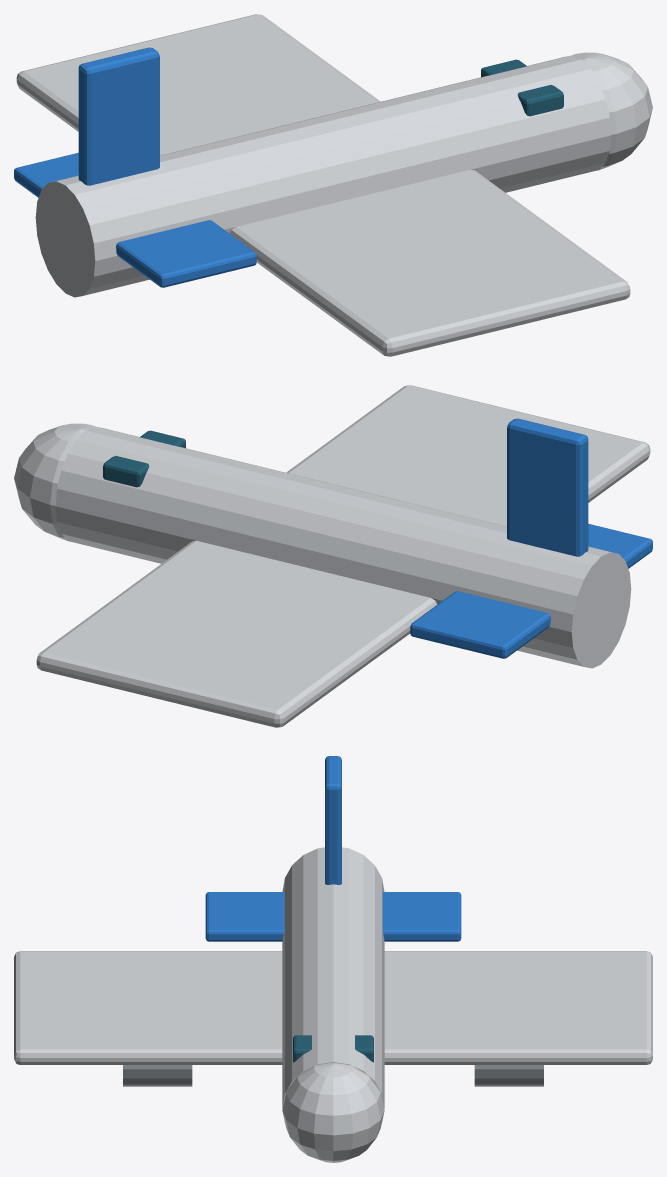
File: airplane.glb
3 renders of one model, top to bottom at view 1: azimuth 30°, elevation 25°; view 2: azimuth 150°, elevation 25°; view 3: azimuth 270°, elevation 25°, orthographic. The views are drawn at different scales.
Parts seen in each view (by area): view 1: Wing, Fuselage, TailFin, TailPlane, Nose, Cockpit; view 2: Wing, Fuselage, TailFin, TailPlane, Nose, Cockpit; view 3: Wing, Fuselage, Nose, TailPlane, TailFin, EngineL, EngineR, Cockpit.
Part boxes in pixels (x1,y1,x2,y2): Wing: (16, 14, 630, 356); Fuselage: (35, 55, 611, 297); TailFin: (78, 47, 159, 185); TailPlane: (14, 152, 256, 287); Nose: (571, 52, 652, 170); Cockpit: (481, 59, 563, 116); Wing: (36, 385, 650, 727); Fuselage: (55, 426, 631, 668); TailFin: (507, 418, 588, 556); TailPlane: (410, 523, 652, 658); Nose: (14, 423, 95, 541); Cockpit: (103, 430, 185, 487); Wing: (14, 951, 652, 1064); Fuselage: (282, 847, 384, 1108); Nose: (282, 1063, 384, 1162); TailPlane: (205, 892, 461, 941); TailFin: (325, 756, 341, 884); EngineL: (123, 1065, 192, 1086); EngineR: (474, 1065, 543, 1086); Cockpit: (293, 1035, 373, 1062).
Bounding box in the file's own units: 5.4 × 2.13 × 6.
